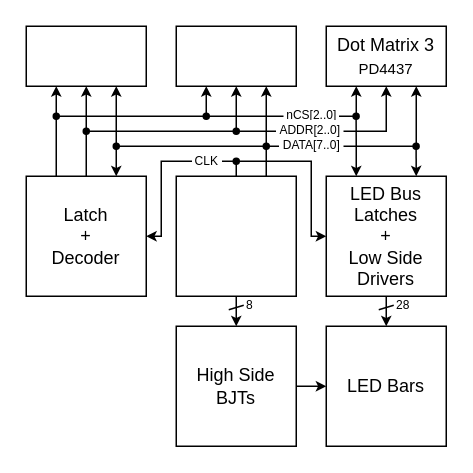
This 473x473 diagram has some shape labels left out. The shapes that lost their labels are listed below. From the top down, each one's box as (x1, y1, x2, y2) in pixels, then its label:
(25, 25, 146, 86): Dot Matrix 1 PD4437
(175, 25, 296, 86): Dot Matrix 2 PD4437
(175, 175, 296, 296): TI MCU TMS77C82
